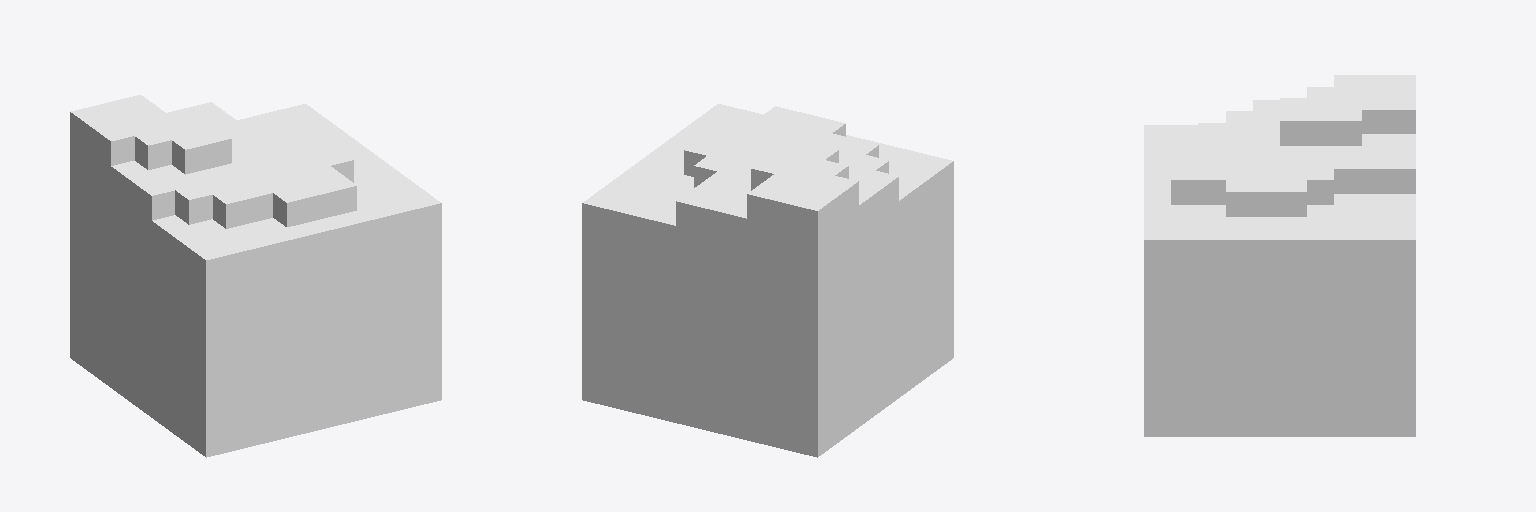
The model's file is Lehm_kureve-1.0.obj.
The picture shows the model from 3 angles: view 1: azimuth 30°, elevation 25°; view 2: azimuth 150°, elevation 25°; view 3: azimuth 270°, elevation 25°; orthographic projection.
Visible parts, largest first — view 1: object 1; view 2: object 1; view 3: object 1.
Part boxes in pixels (x1,y1,x2,y2): object 1: (70, 95, 441, 457); object 1: (582, 104, 953, 457); object 1: (1144, 75, 1415, 436).
Size of the model in its own units: 1 by 1 by 1.